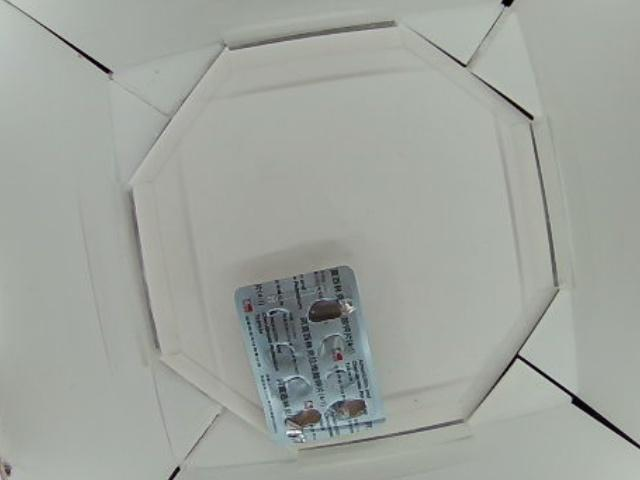Medicine: (231, 264, 386, 448)
